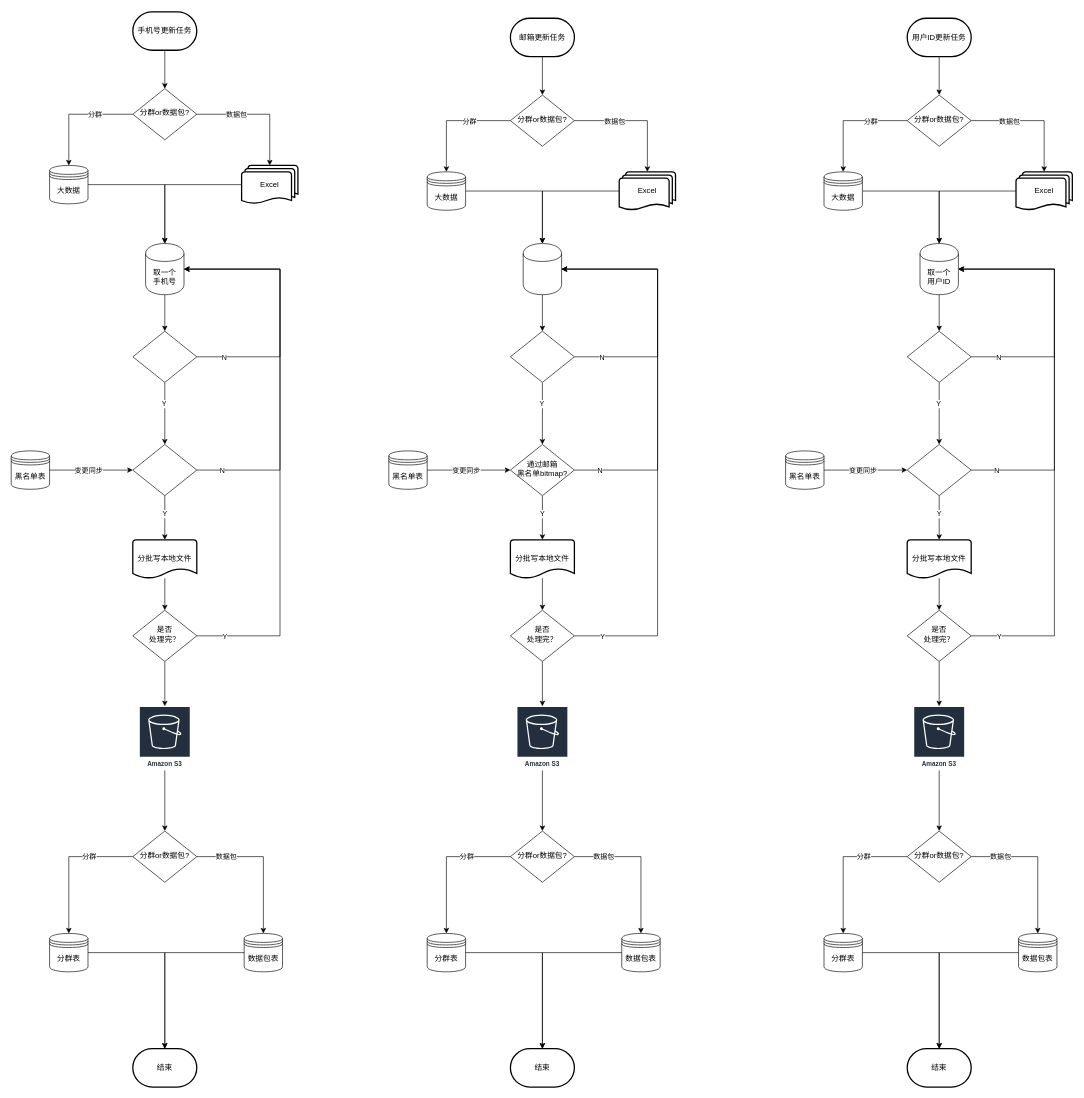
Image size: 1084x1098. Some labels were removed from this diagram. The shapes that lost their labels are listed below. From the top down, each one's centre as x and y in pixels, then its label:
At [542,269]: "取一个 邮箱".
At [164,356]: "通过手机号 过滤规则?".
At [542,356]: "通过邮箱 过滤规则?".
At [939,356]: "通过用户ID 过滤规则?".
At [164,470]: "通过手机号 黑名单bitmap?".
At [939,470]: "通过用户ID 黑名单bitmap?".
